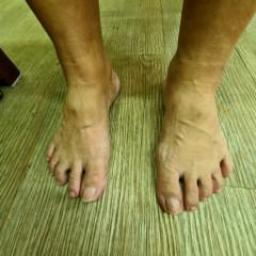Dorsal View -Both Feet-: (22, 35, 248, 228)
